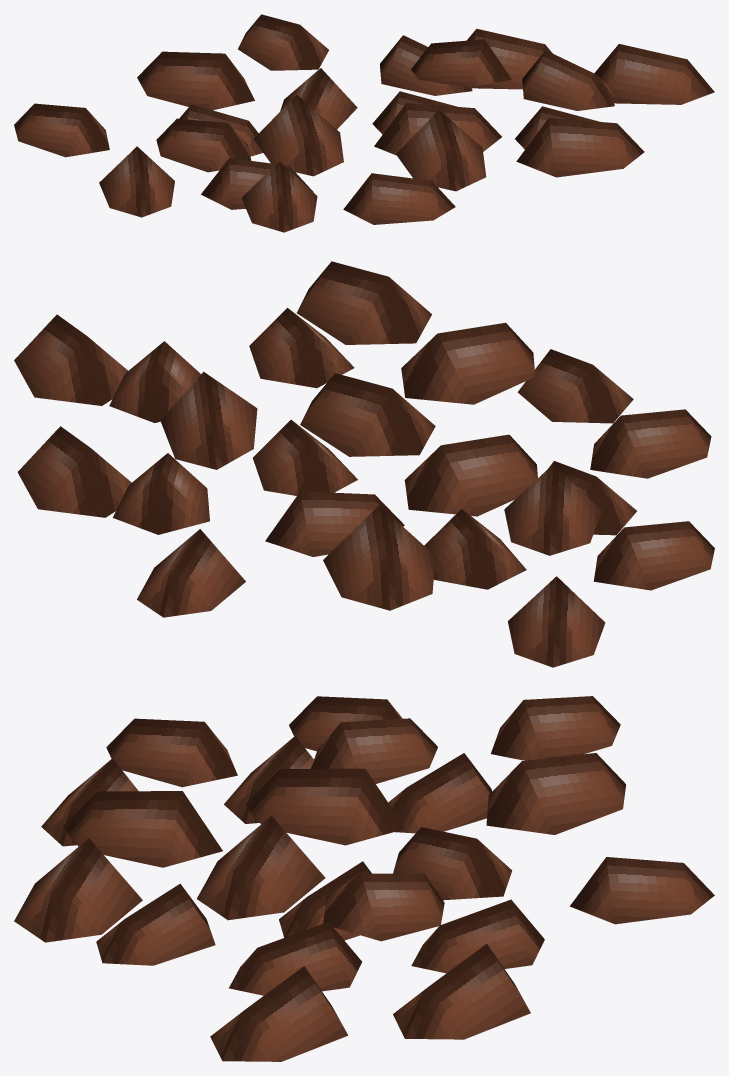
The model's file is CoffeeBeans.fbx.
The picture shows the model from 3 angles, top to bottom: view 1: azimuth 30°, elevation 25°; view 2: azimuth 150°, elevation 25°; view 3: azimuth 270°, elevation 25°; orthographic projection. The views are drawn at different scales.
Visible parts, largest first — view 1: CoffeeBeans; view 2: CoffeeBeans; view 3: CoffeeBeans.
Boxes of the visible parts, box(x1,y1,x2,y2) form: CoffeeBeans: box(14, 14, 714, 232); CoffeeBeans: box(14, 261, 714, 667); CoffeeBeans: box(14, 696, 714, 1061).
Bounding box in the file's own units: 28.97 × 4.45 × 23.87.
